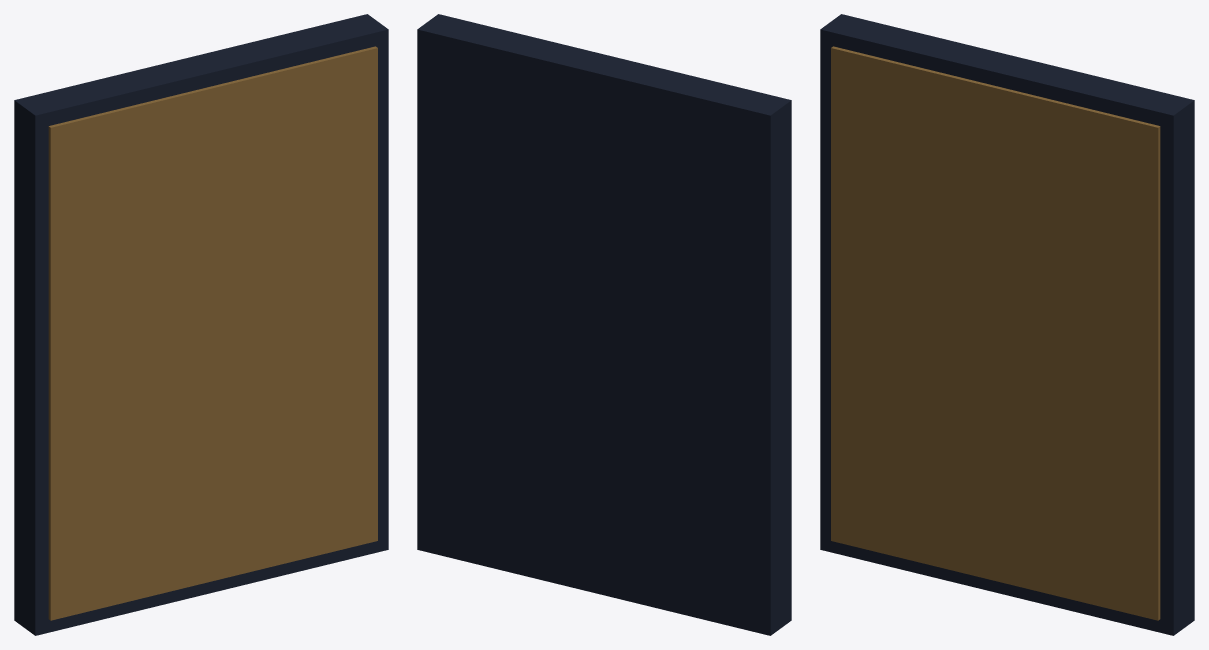
File: dvd-6.glb
The picture shows the model from 3 angles, left to right: view 1: azimuth 30°, elevation 25°; view 2: azimuth 150°, elevation 25°; view 3: azimuth 330°, elevation 25°; orthographic projection.
Size of the model in its own units: 0.135 by 0.19 by 0.0155.
